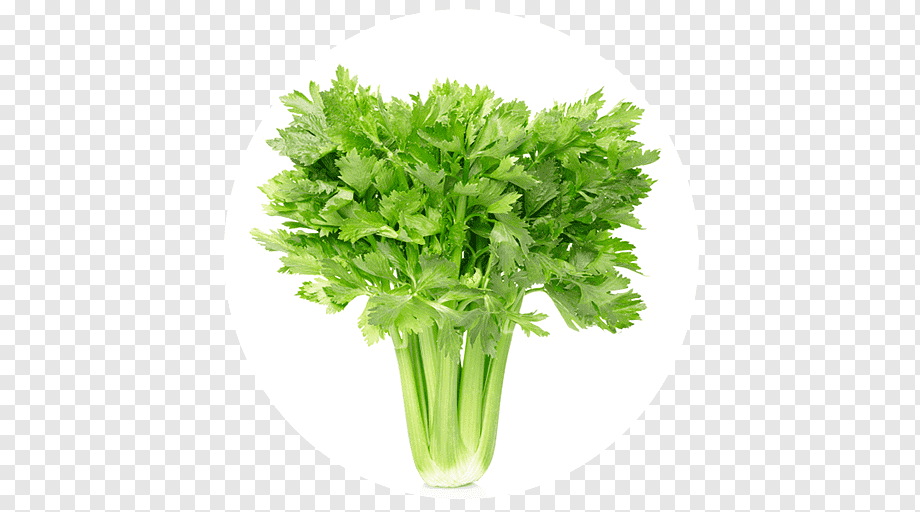Seledri: (273, 91, 645, 487)
